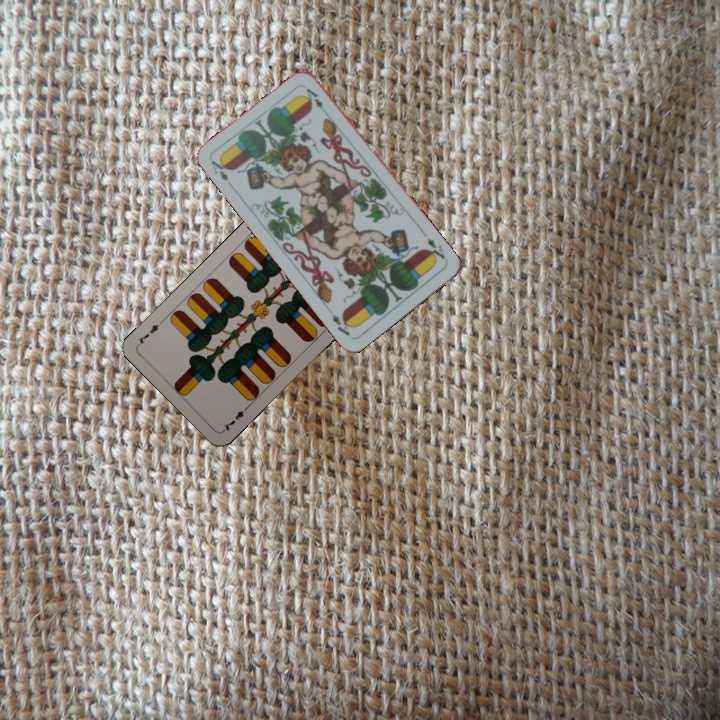E7: (220, 401, 252, 434)
EA: (423, 233, 449, 264), (207, 155, 232, 184)
